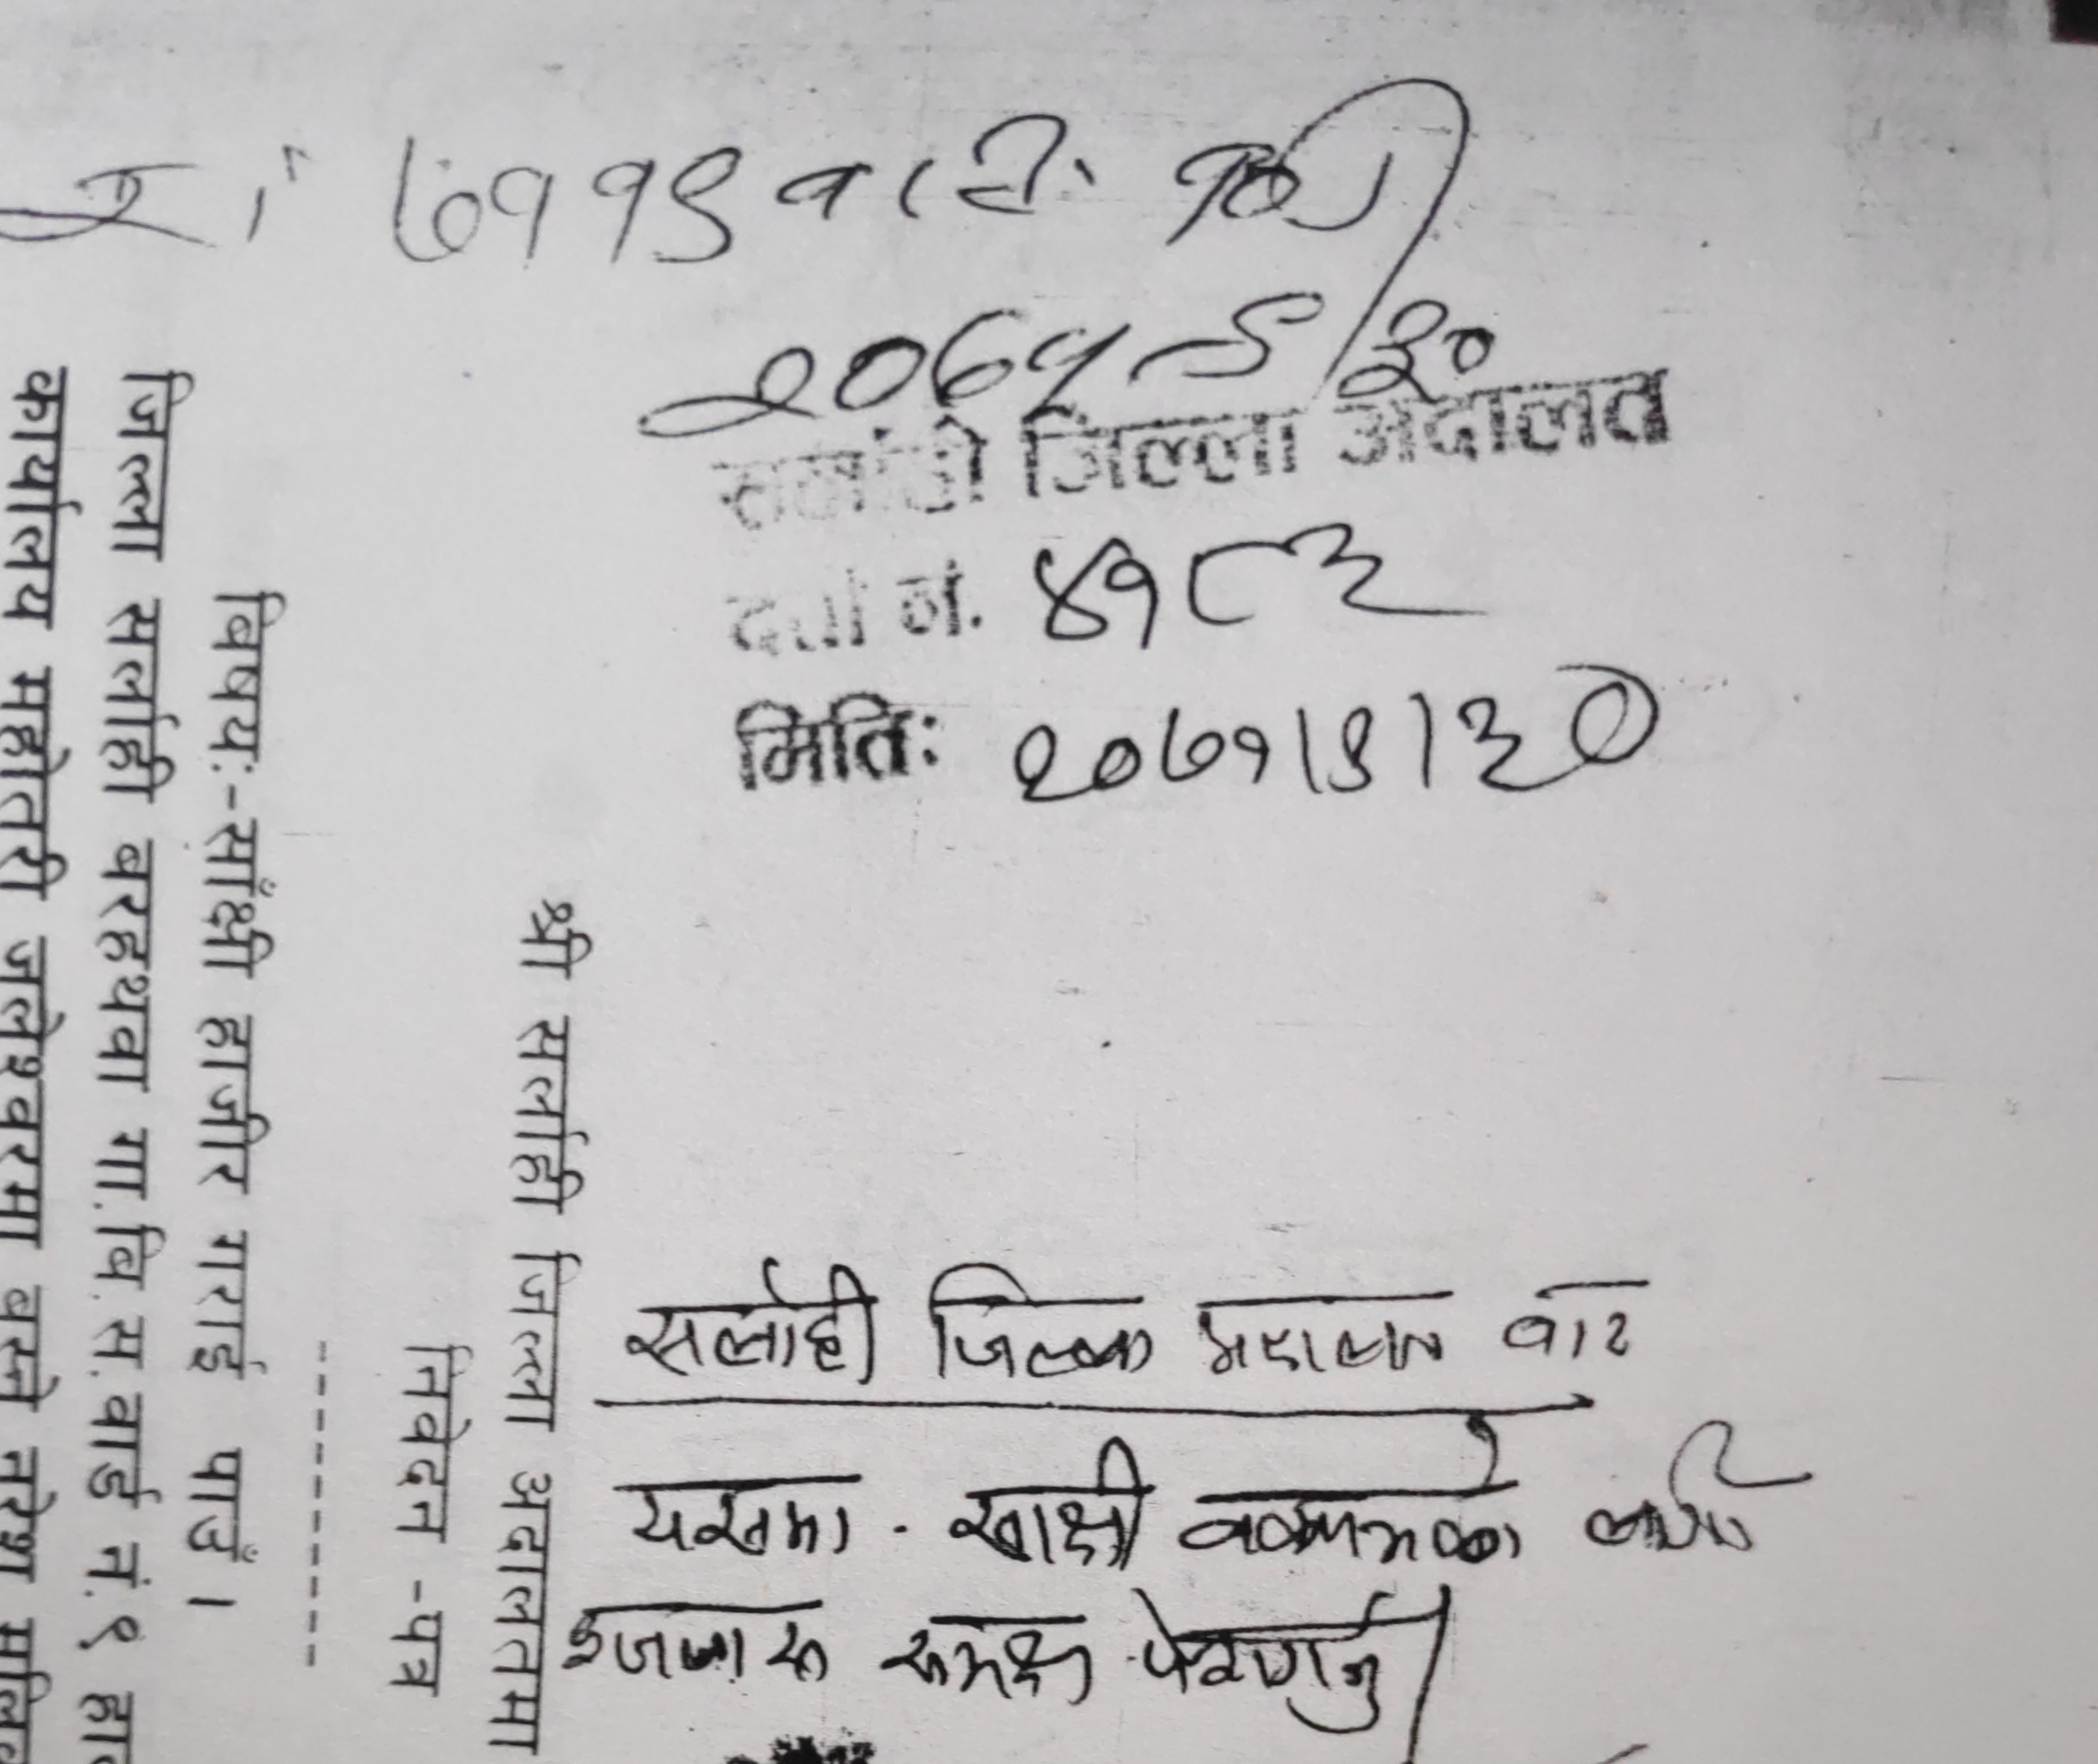text: (623, 289, 1496, 443), (1008, 656, 1668, 800), (1172, 1407, 1531, 1582), (1122, 1571, 1465, 1752), (381, 112, 742, 278), (1018, 530, 1482, 647), (768, 105, 1076, 227), (623, 1255, 887, 1384), (1575, 1414, 1790, 1566), (924, 1258, 1160, 1389), (952, 1437, 1150, 1571), (563, 1589, 824, 1689), (1183, 1290, 1456, 1384), (612, 1468, 864, 1568), (870, 1606, 1101, 1710), (1500, 1272, 1659, 1365)
